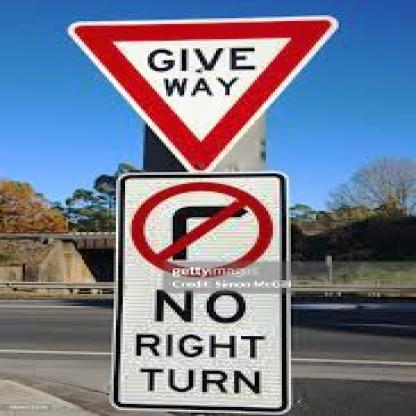No right turn: (126, 178, 282, 276)
